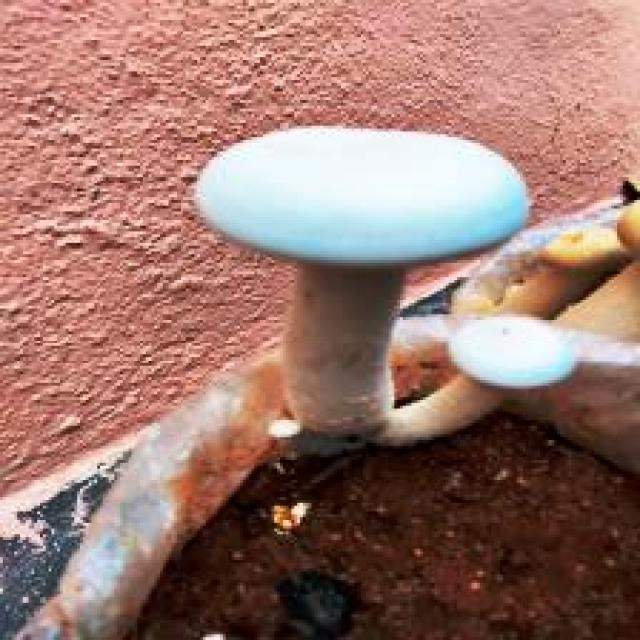field-mushroom: (188, 120, 532, 443)
